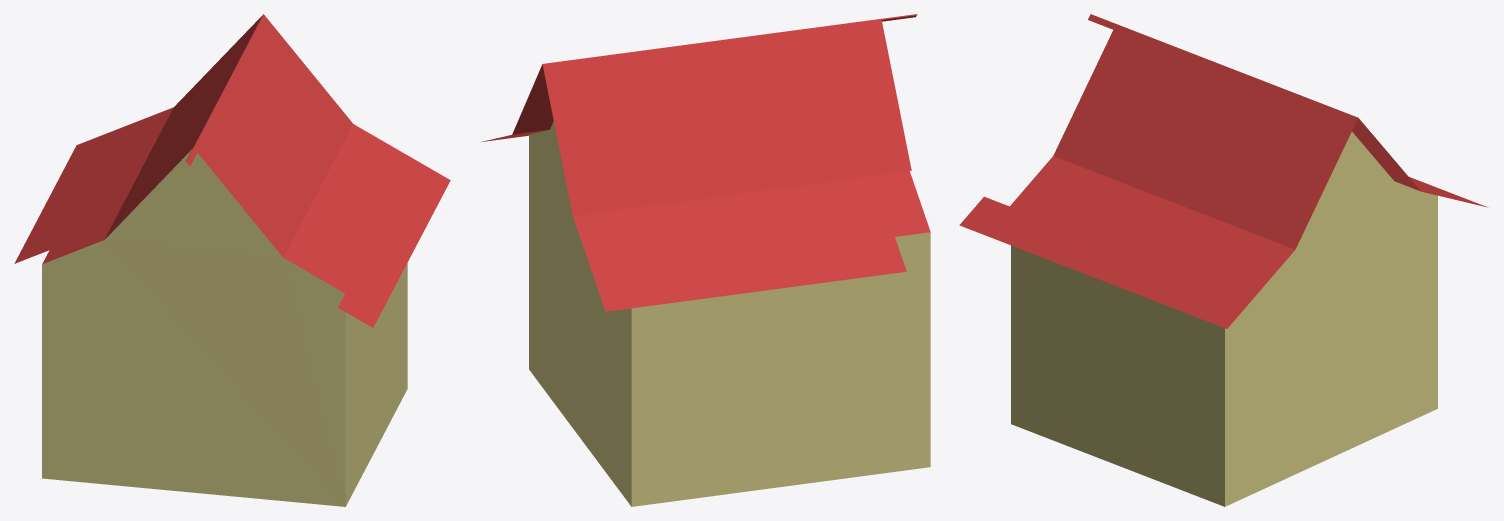
3 renders of one model, left to right at view 1: azimuth 30°, elevation 25°; view 2: azimuth 150°, elevation 25°; view 3: azimuth 270°, elevation 25°, orthographic. The views are drawn at different scales.
Bounding box in the file's own units: 19.77 × 21.68 × 15.82.
